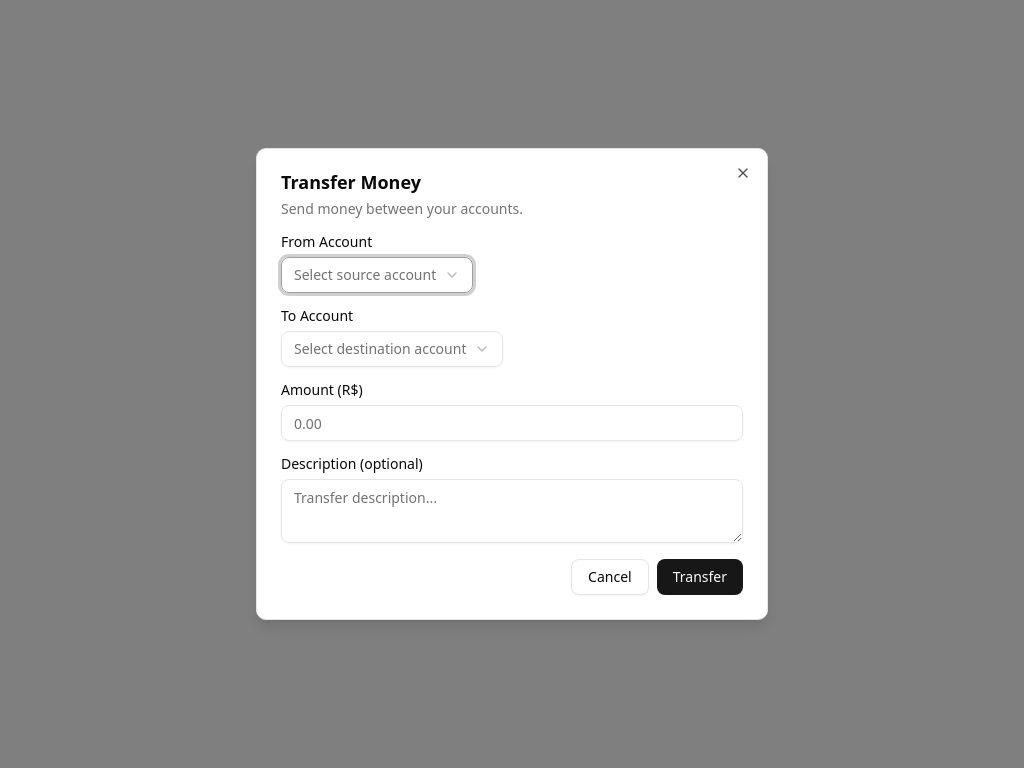
Scenario: TransferDialog › maps graphql violations to field errors
Type "10.00" into the number field labelled "Amount (R$)" at [512, 423], box [281,405,743,441]
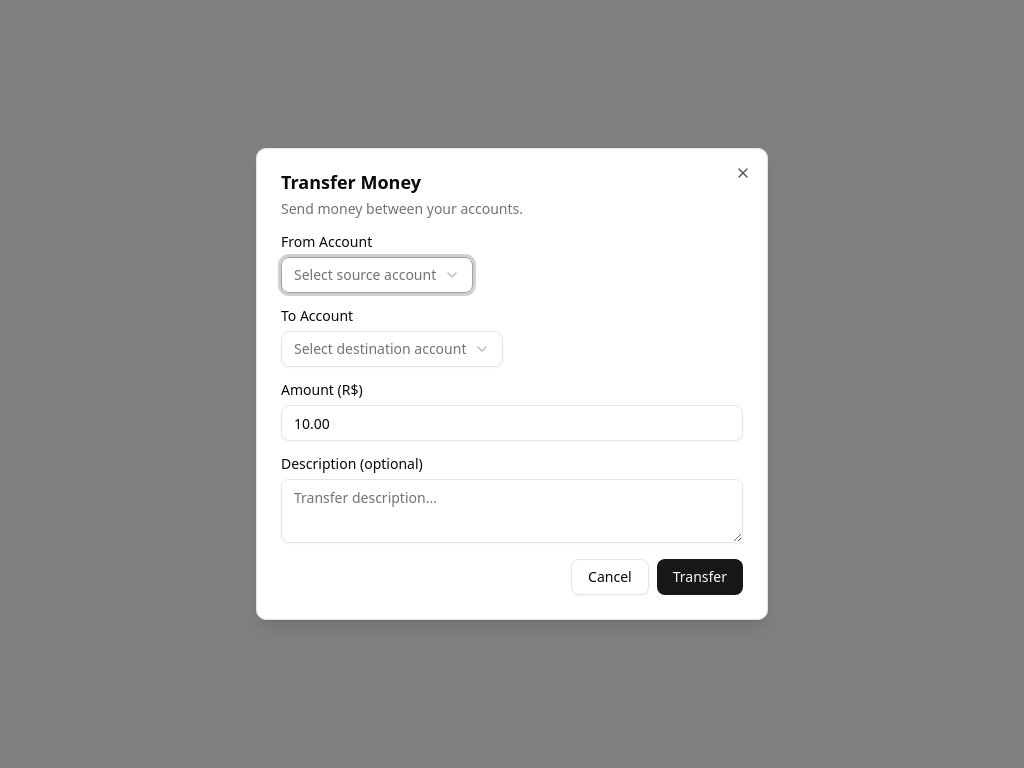
Submit the form, box [281,235,743,595]
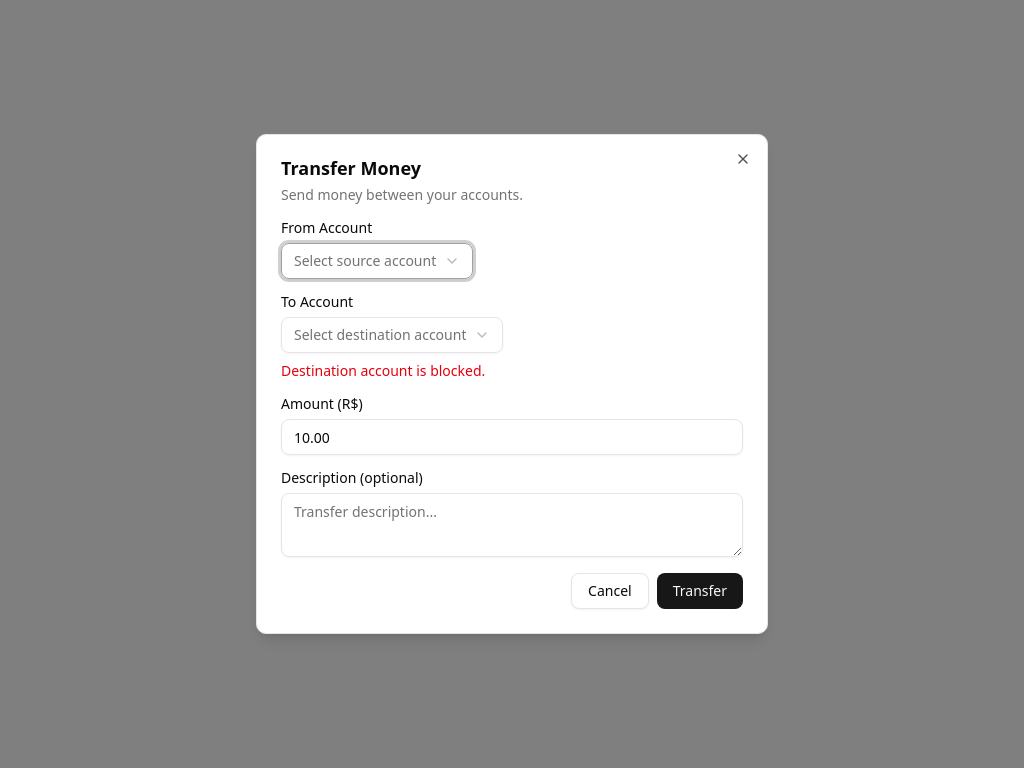
Now the text "Destination account is blocked." is shown, box [281,361,485,380]
